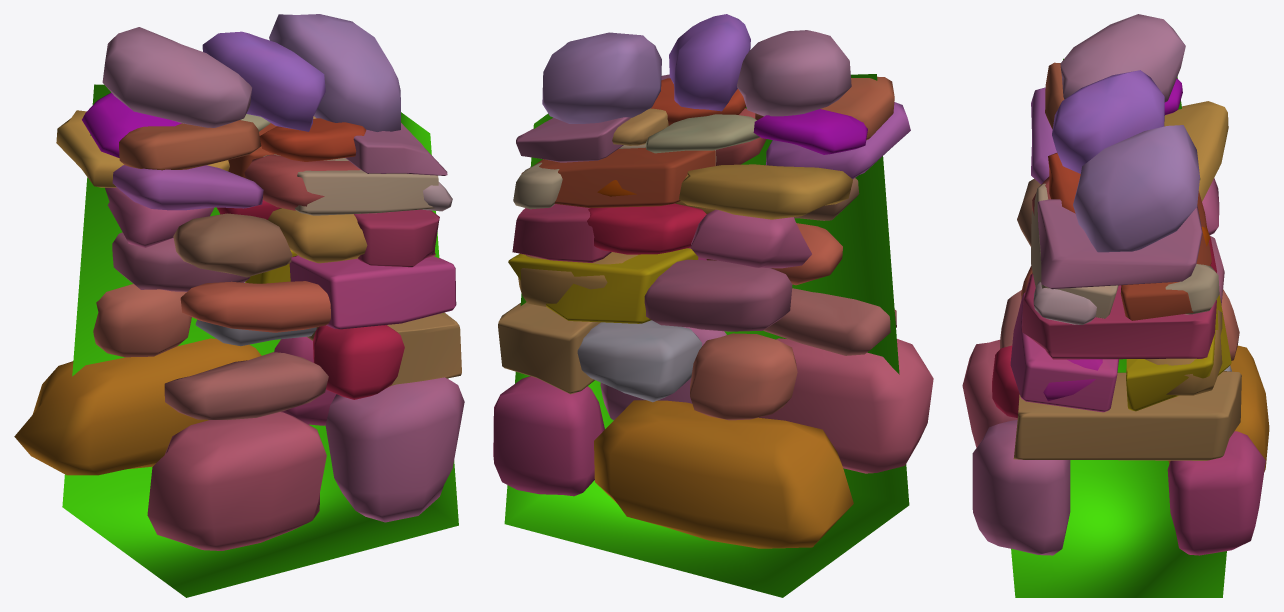
Rendered from SM_Prop_wall_end_18.glb.
3 renders of one model, left to right at view 1: azimuth 30°, elevation 25°; view 2: azimuth 150°, elevation 25°; view 3: azimuth 270°, elevation 25°, orthographic. The views are drawn at different scales.
Visible parts, largest first — view 1: SM_Prop_wall_end_18; view 2: SM_Prop_wall_end_18; view 3: SM_Prop_wall_end_18.
Part boxes in pixels (left/top/right/bottom): SM_Prop_wall_end_18: left=14, top=14, right=464, bottom=597; SM_Prop_wall_end_18: left=493, top=14, right=933, bottom=597; SM_Prop_wall_end_18: left=962, top=14, right=1269, bottom=597.
Size of the model in its own units: 1.15 by 1.64 by 0.9883.
